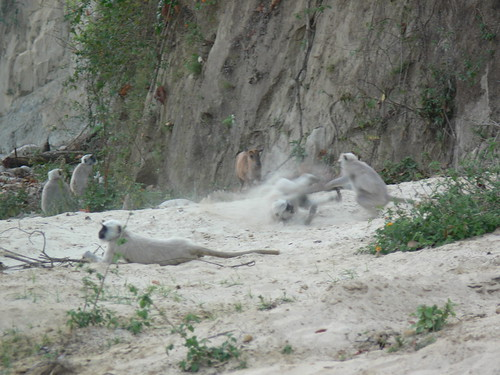monkey: (75, 218, 279, 266), (317, 150, 431, 221), (258, 169, 341, 227), (30, 167, 97, 218), (64, 147, 115, 203)
